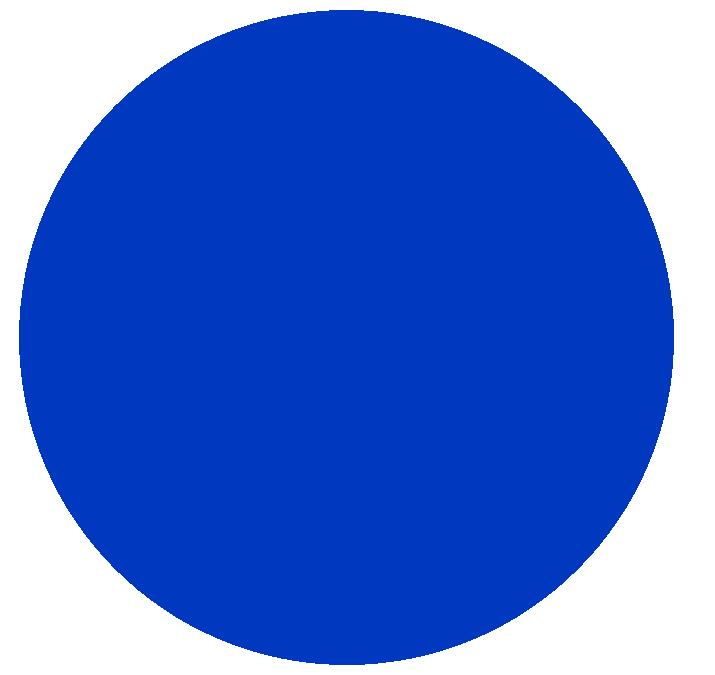blue_circle: (0, 0, 715, 675)
